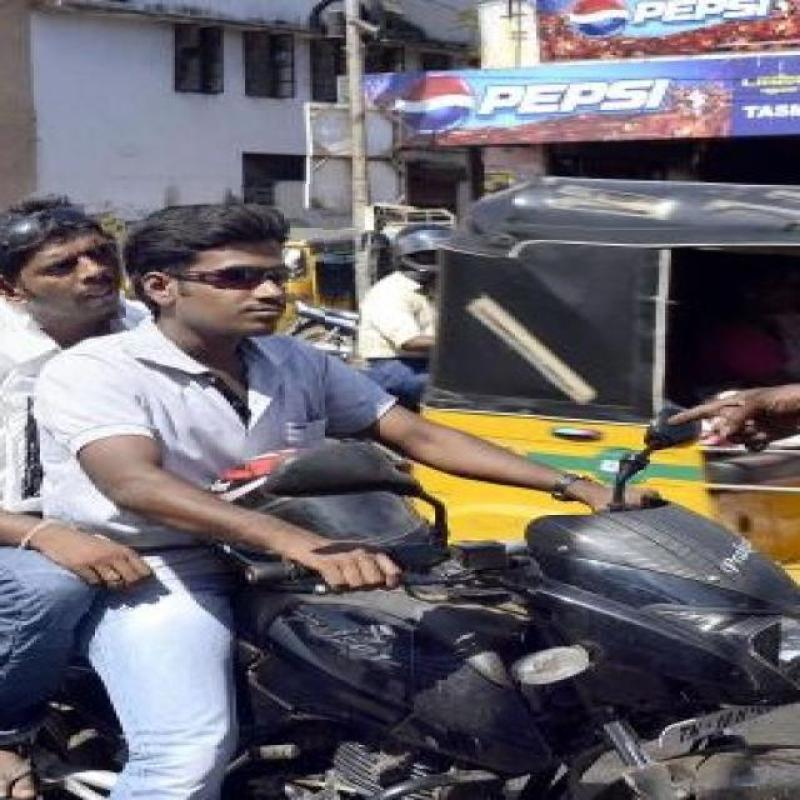nohelmet: (125, 184, 324, 346), (0, 186, 122, 328)
